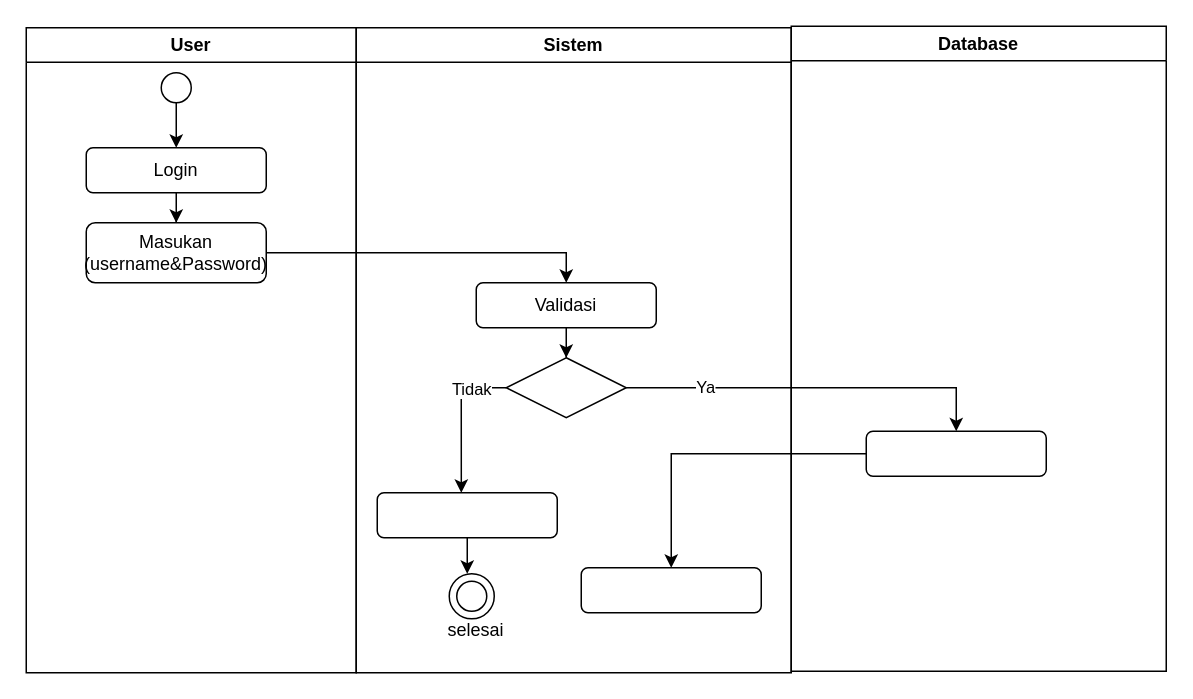
Image size: 1193x699. Some labels were removed from this diagram. The centre of each missing label's shape, as x and y in pixels:
"Menyimpan Data Login ke Database" goes at point 955,453.
"Tampilkan Laman Dashboard" goes at point 670,589.
"Tampilkan Pesan Error" goes at point 466,514.
